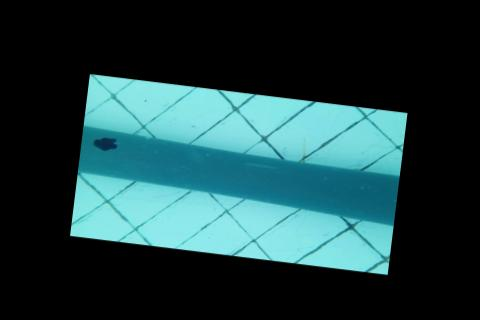kebocoran: (90, 133, 118, 152)
